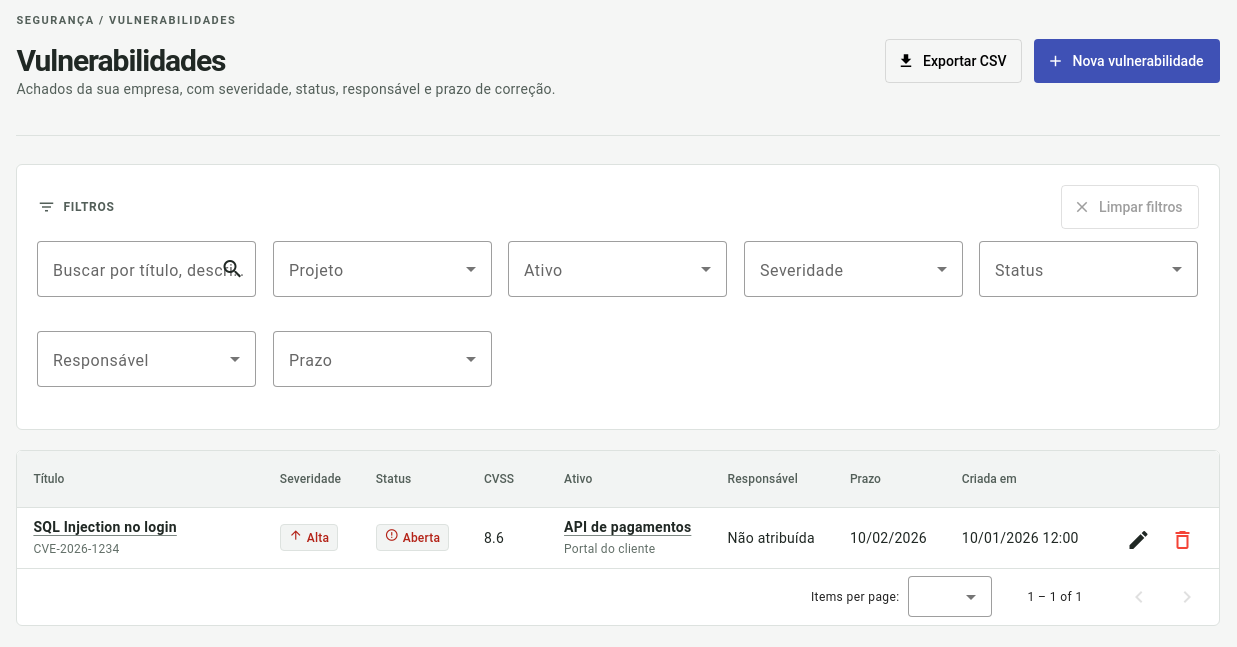
Test: VulnerabilityListComponent › desabilita o botão e mostra a barra de progresso enquanto exporta
What coordinates should you click on to do the following:
click the button with test id "vulnerability-export"
I would click on:
 (954, 61)
Its box is [885,39,1022,83].
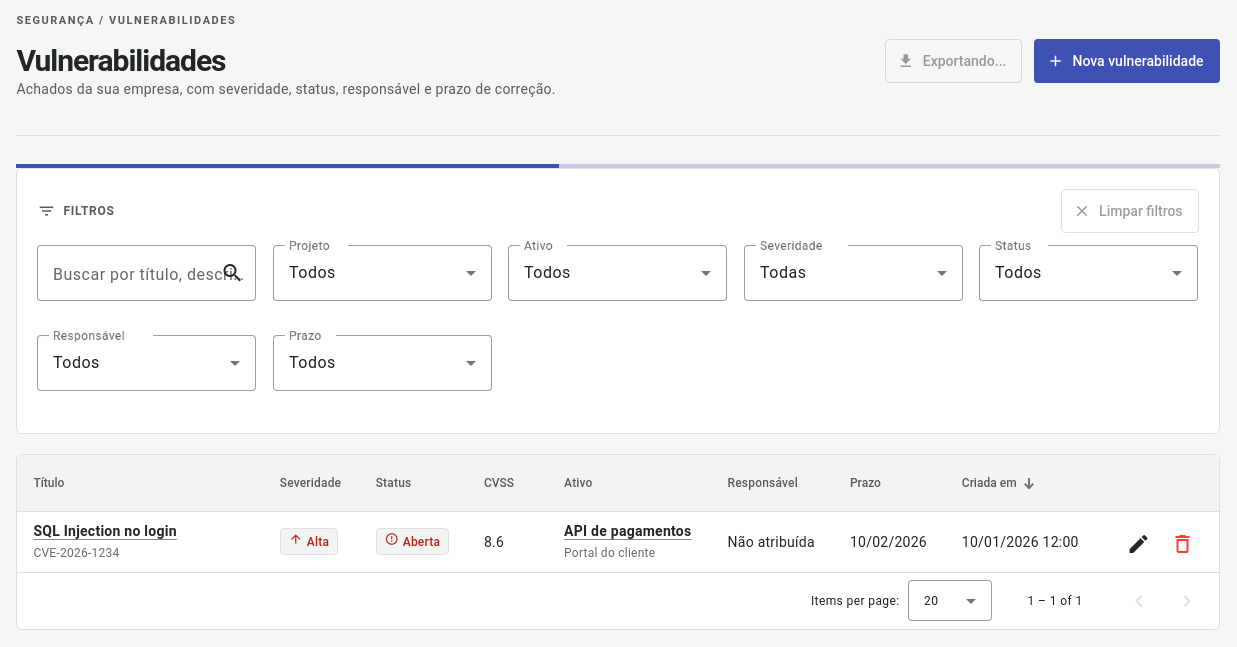
Expected: the progress indicator named "Exportando as vulnerabilidades" is shown, [16,164,1220,168]
